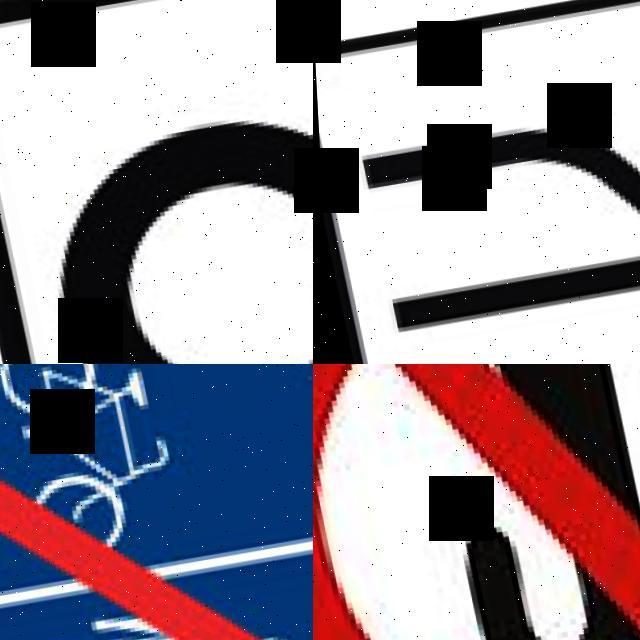112: (0, 364, 313, 640)
68: (0, 0, 313, 364)
71: (313, 0, 640, 364)
Horn prohibited: (313, 364, 640, 640)
